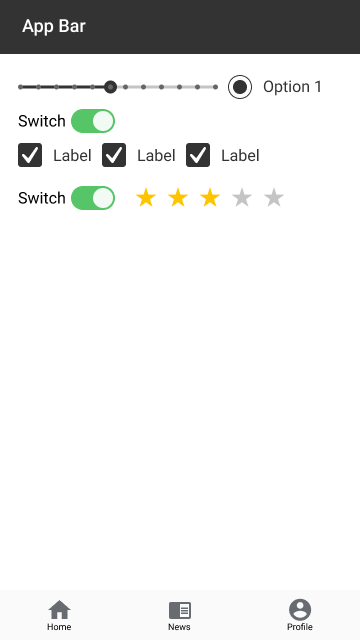checkBox: (183, 141, 265, 169), (15, 141, 95, 169), (101, 140, 178, 169)
navigationButton: (1, 590, 358, 638)
radioButton: (226, 73, 328, 101)
ratingBar: (130, 186, 287, 210)
slider: (16, 78, 222, 94)
switch: (16, 108, 122, 135), (15, 186, 118, 210)
toolbar: (2, 1, 360, 54)
